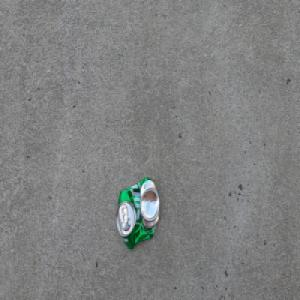SodaCan: (115, 176, 160, 250)
